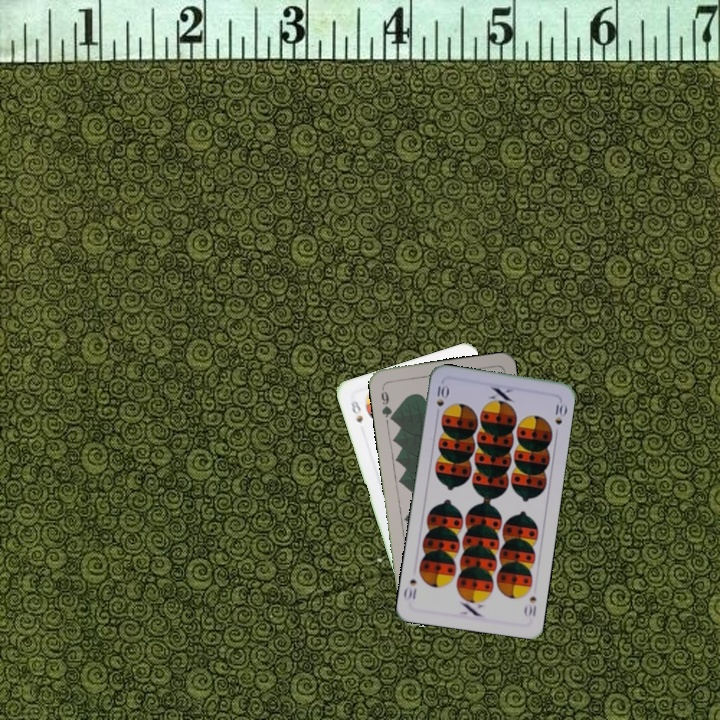G9: (377, 383, 396, 423)
S10: (432, 379, 450, 419), (520, 592, 539, 619)
S8: (346, 397, 365, 425)
